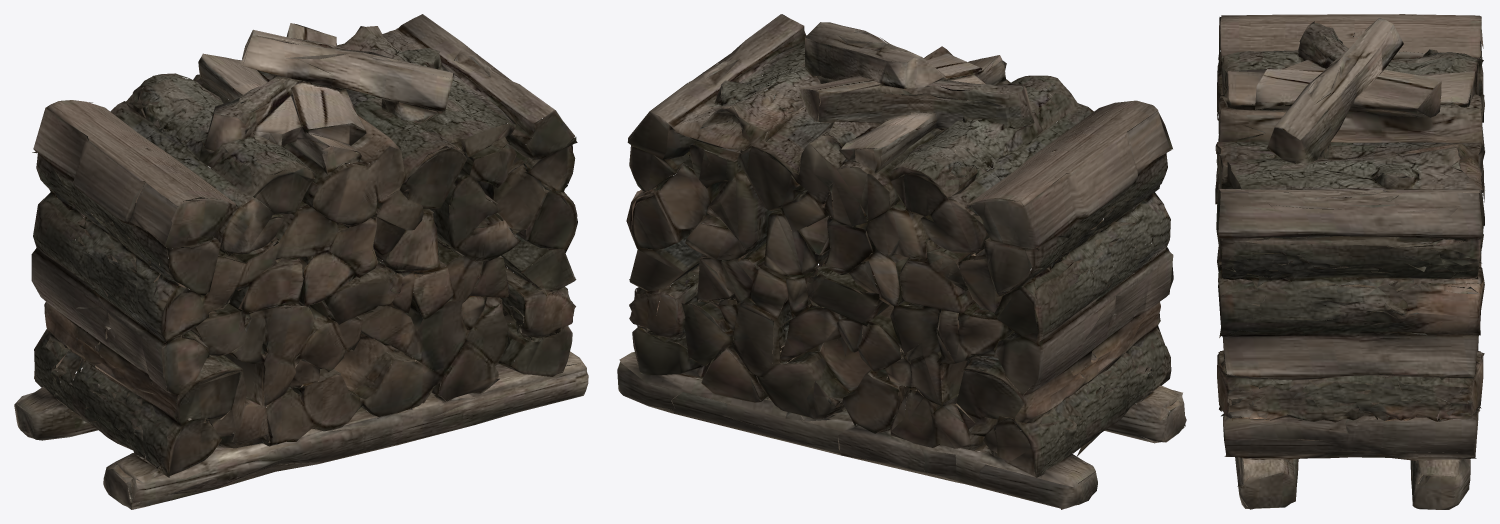
The model's file is firewood-stack.glb.
The picture shows the model from 3 angles, left to right: view 1: azimuth 30°, elevation 25°; view 2: azimuth 150°, elevation 25°; view 3: azimuth 270°, elevation 25°; orthographic projection. The views are drawn at different scales.
Visible parts, largest first — view 1: Mesh_0; view 2: Mesh_0; view 3: Mesh_0.
Part boxes in pixels (<box>): Mesh_0: <box>14,14,588,509</box>; Mesh_0: <box>617,14,1186,509</box>; Mesh_0: <box>1215,14,1484,509</box>.
Size of the model in its own units: 1.9 by 1.48 by 0.981.
Materials: 1 (1 with a texture image).
